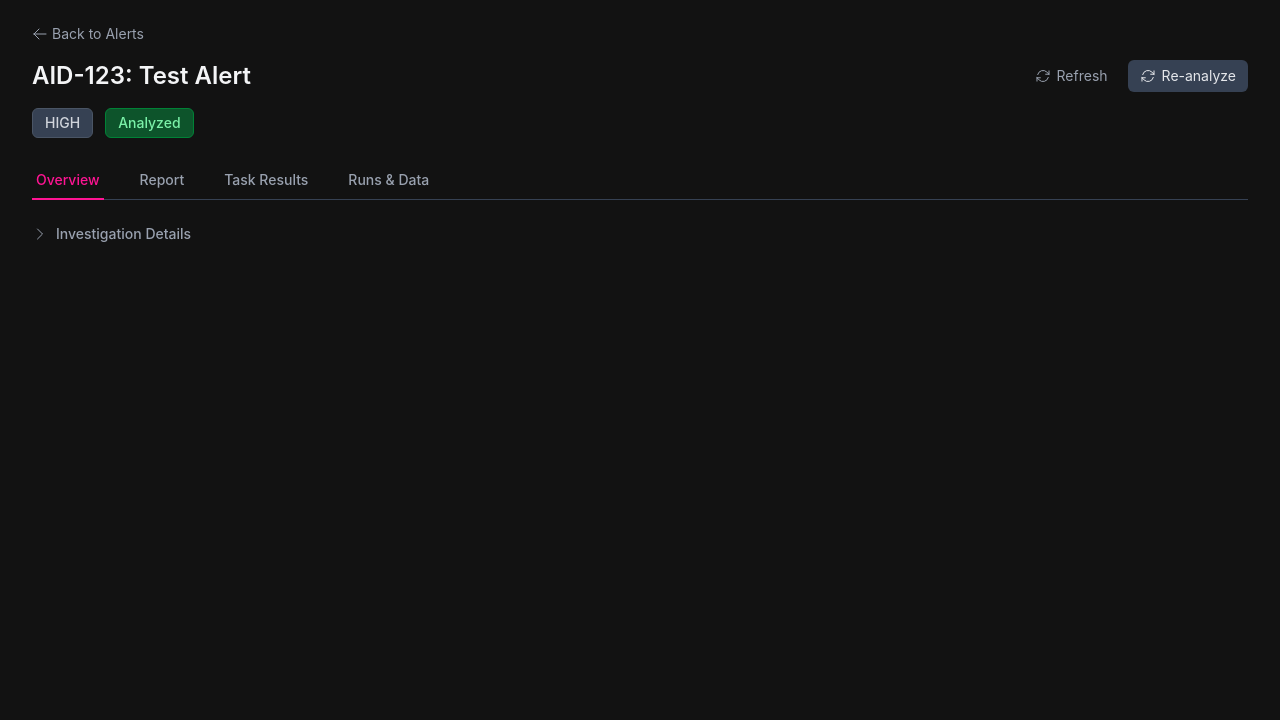
Test: AlertDetails - Re-analyze Confirmation Modal › should show confirmation modal when clicking Re-analyze button
Check: the heading "AID-123: Test Alert" is shown, box [32,61,251,90]
# Find and click the Re-analyze button
Click the button "Re-analyze" at (1188, 76), box [1128,60,1248,92]
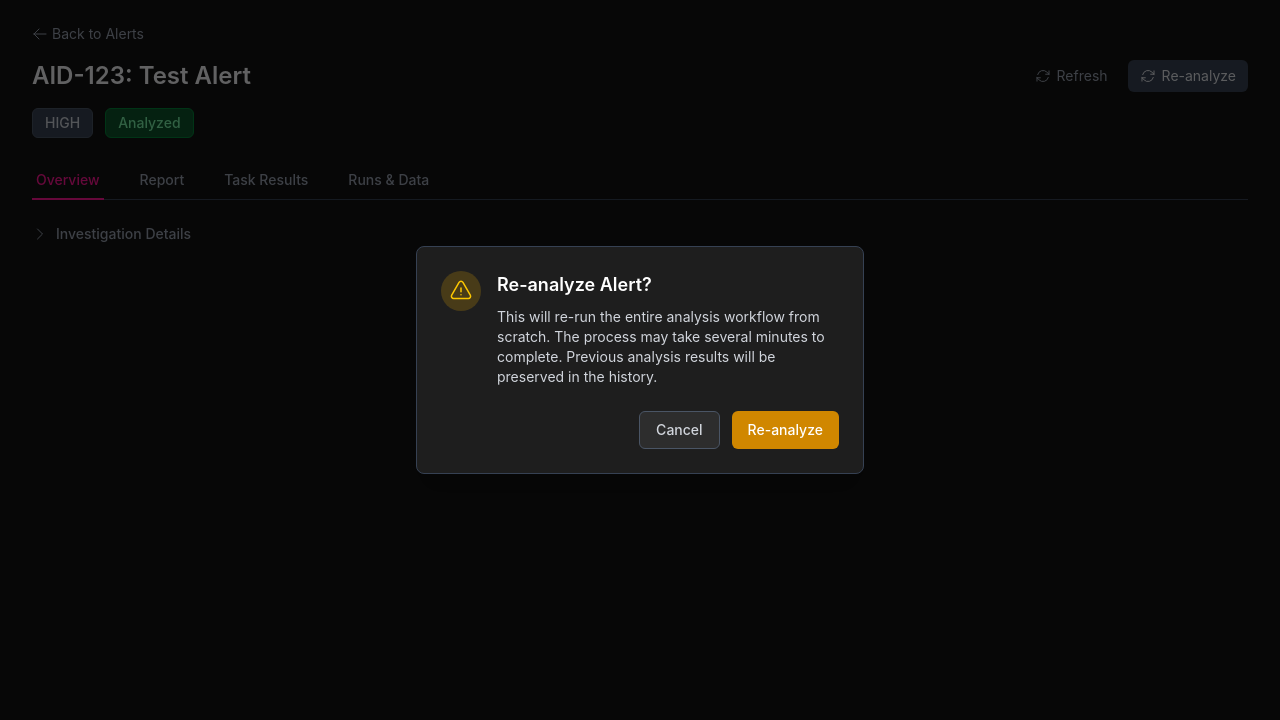
Check: the heading "Re-analyze Alert?" is shown, box [497,274,652,295]
Check: the text "may take several minutes" is shown, box [497,308,825,385]
